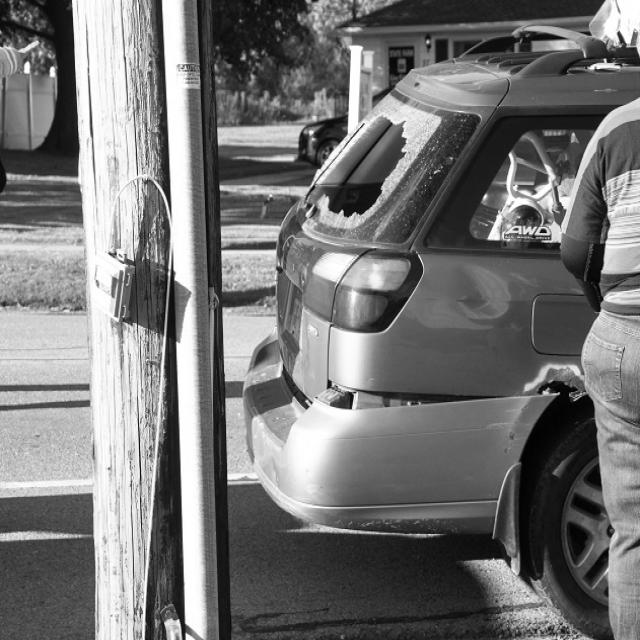dent: (453, 261, 516, 326)
missing: (284, 364, 517, 409)
scratch: (489, 362, 586, 461)
tear: (539, 381, 586, 405)
